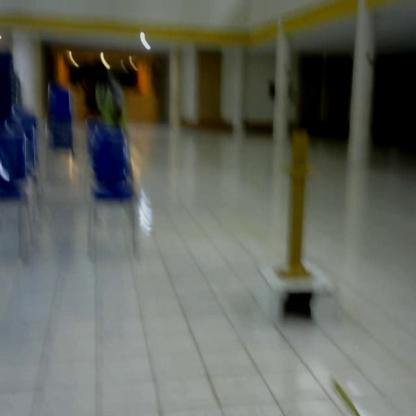pole: (274, 126, 322, 284)
